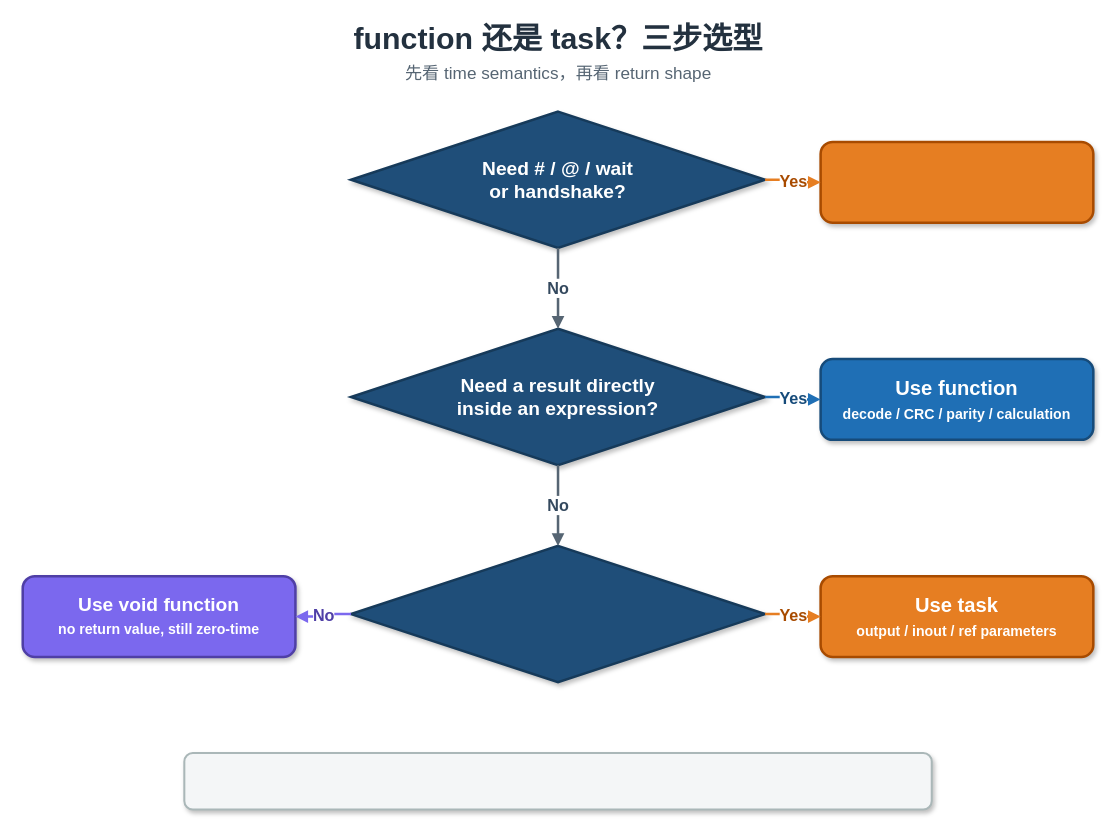
Image size: 1118x834. Some labels were removed from this diagram. The shapes that lost their labels are listed below. From the top down, each one's centre as x and y in pixels, then its label:
At [957,183]: "Use task driver / BFM / reset / handshake".
At [558,615]: "Need procedure orchestration or multiple output values?".
At [558,782]: "Rule of thumb: time semantics decide first; return shape decides second.".
